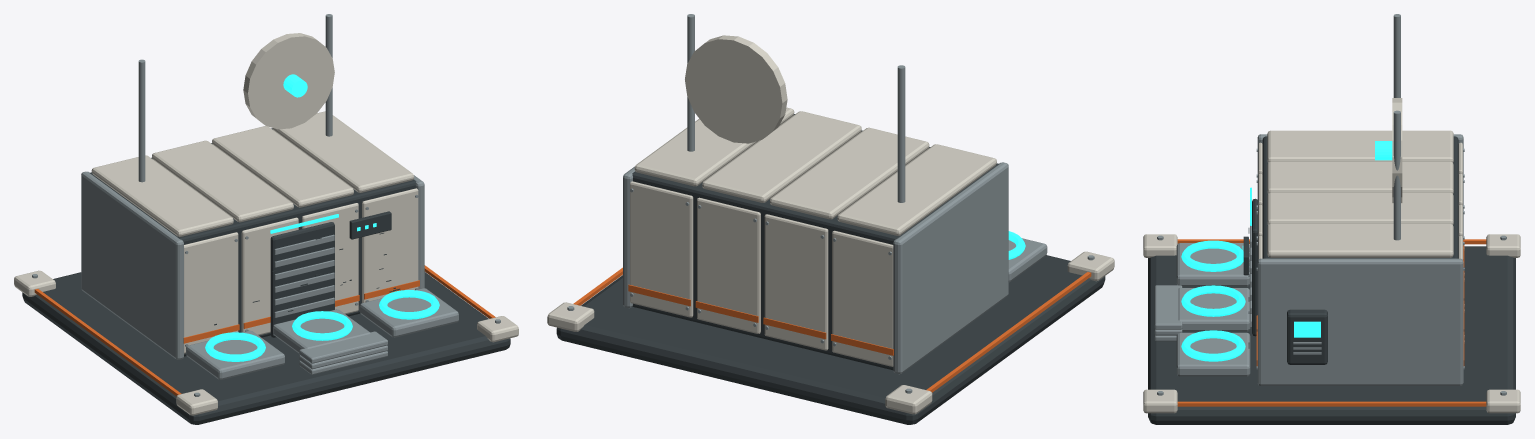
File: SM_ExplorerDroneControlCenter_Body.001.fbx
The picture shows the model from 3 angles, left to right: view 1: azimuth 30°, elevation 25°; view 2: azimuth 150°, elevation 25°; view 3: azimuth 270°, elevation 25°; orthographic projection. The views are drawn at different scales.
Visible parts, largest first — view 1: SM_ExplorerDroneControlCenter_Body.001; view 2: SM_ExplorerDroneControlCenter_Body.001; view 3: SM_ExplorerDroneControlCenter_Body.001.
Boxes of the visible parts, <box> form: SM_ExplorerDroneControlCenter_Body.001: <box>14,14,518,424</box>; SM_ExplorerDroneControlCenter_Body.001: <box>547,14,1114,424</box>; SM_ExplorerDroneControlCenter_Body.001: <box>1143,14,1520,424</box>.
Bounding box in the file's own units: 492 × 462 × 380.
